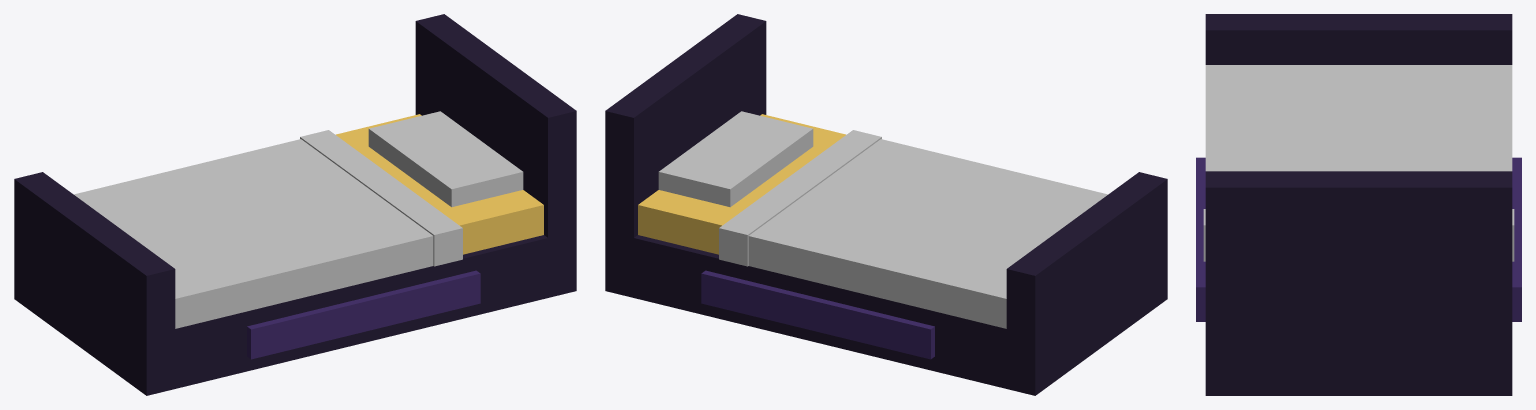
File: cama_branco.gltf
The picture shows the model from 3 angles, left to right: view 1: azimuth 30°, elevation 25°; view 2: azimuth 150°, elevation 25°; view 3: azimuth 270°, elevation 25°; orthographic projection. The views are drawn at different scales.
Visible parts, largest first — view 1: lencol, pe, cabeceira, inferior, travesseiro, gaveta_lateral, colchao, lencol_sup; view 2: lencol, pe, cabeceira, inferior, travesseiro, gaveta_lateral, colchao, lencol_sup; view 3: cabeceira, lencol, pe, gaveta_lateral (×2), lencol_sup.
Boxes of the visible parts, bbox=[...] form: lencol: bbox=[74, 139, 433, 328]; pe: bbox=[14, 172, 175, 395]; cabeceira: bbox=[415, 14, 576, 296]; inferior: bbox=[168, 235, 555, 390]; travesseiro: bbox=[368, 111, 523, 207]; gaveta_lateral: bbox=[247, 270, 480, 359]; colchao: bbox=[336, 114, 543, 254]; lencol_sup: bbox=[300, 130, 462, 266]; lencol: bbox=[748, 139, 1107, 328]; pe: bbox=[1006, 172, 1167, 395]; cabeceira: bbox=[605, 14, 766, 297]; inferior: bbox=[626, 235, 1013, 389]; travesseiro: bbox=[658, 111, 813, 207]; gaveta_lateral: bbox=[701, 270, 934, 359]; colchao: bbox=[638, 114, 845, 254]; lencol_sup: bbox=[719, 130, 881, 266]; cabeceira: bbox=[1205, 171, 1512, 395]; lencol: bbox=[1205, 65, 1512, 171]; pe: bbox=[1205, 14, 1512, 64]; gaveta_lateral (×2): bbox=[1196, 157, 1521, 321]; lencol_sup: bbox=[1203, 209, 1514, 261].
Size of the model in its own units: 1.88 by 0.75 by 1.06.
